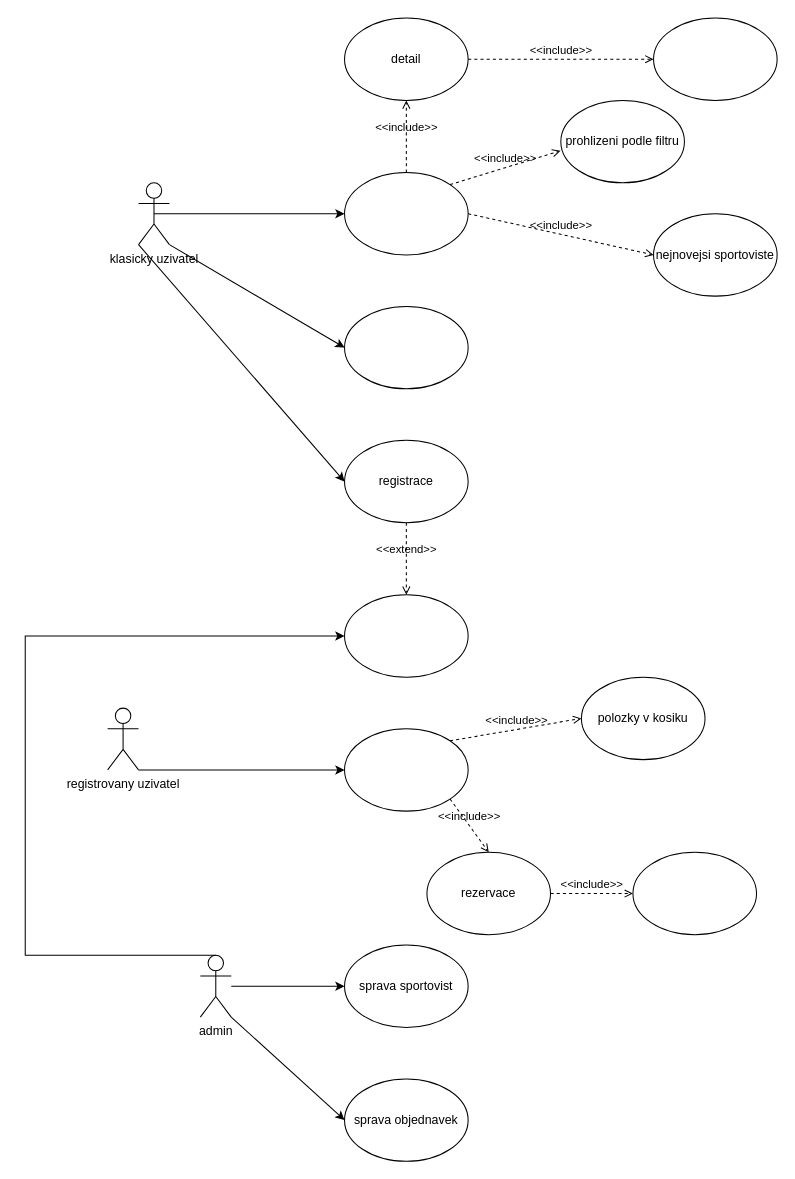
The diagram is 795 pixels wide and 1179 high, and some of its shapes have lost their labels. Each missing label, with the centre of its shape:
"cteni hodnoceni" belongs at [406,347].
"hodnoceni" belongs at [715,58].
"platba" belongs at [694,893].
"pridani do kosiku" belongs at [406,769].
"prihlaseni" belongs at [406,635].
"zobrazeni sportovist a terminu" belongs at [406,213].
